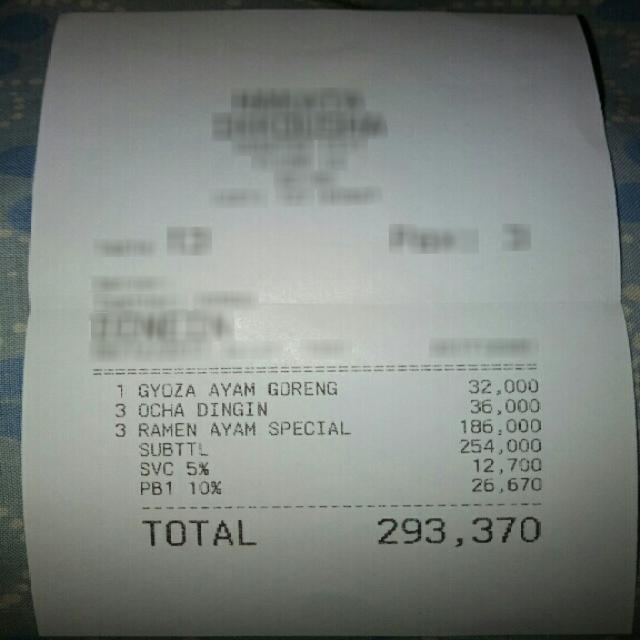kertas: (22, 11, 634, 635)
